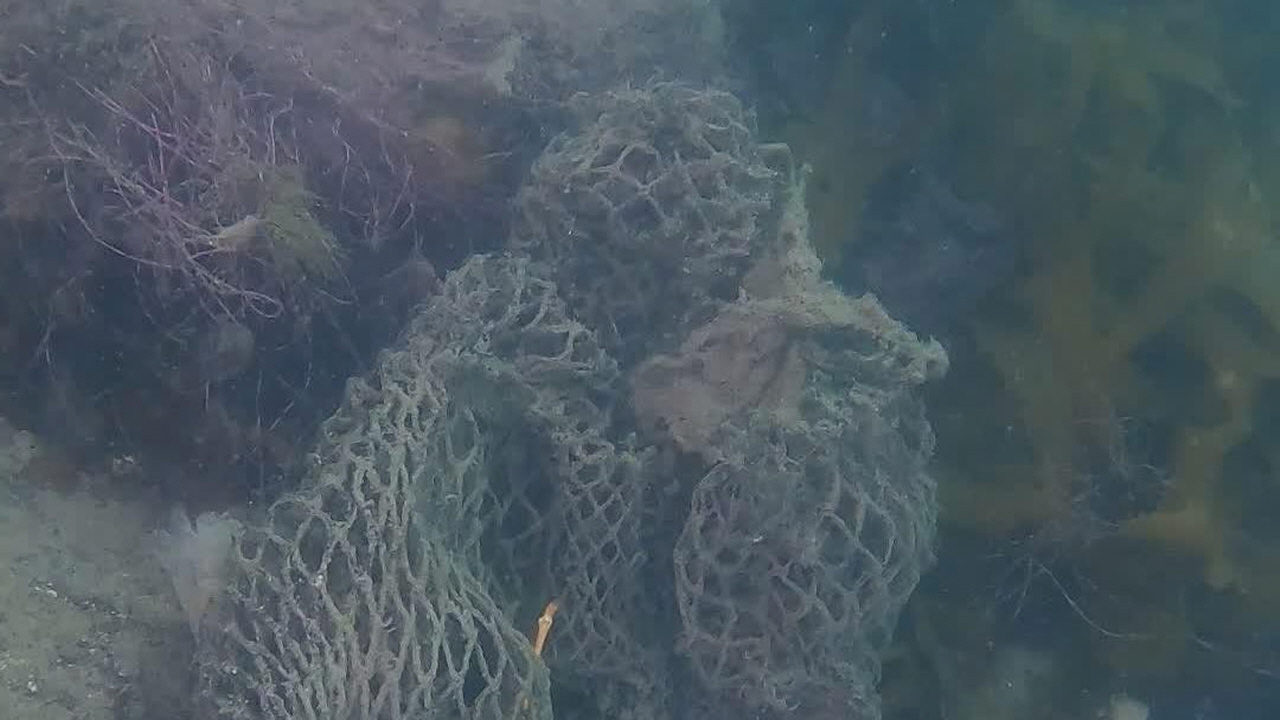fish net: (201, 80, 940, 720)
